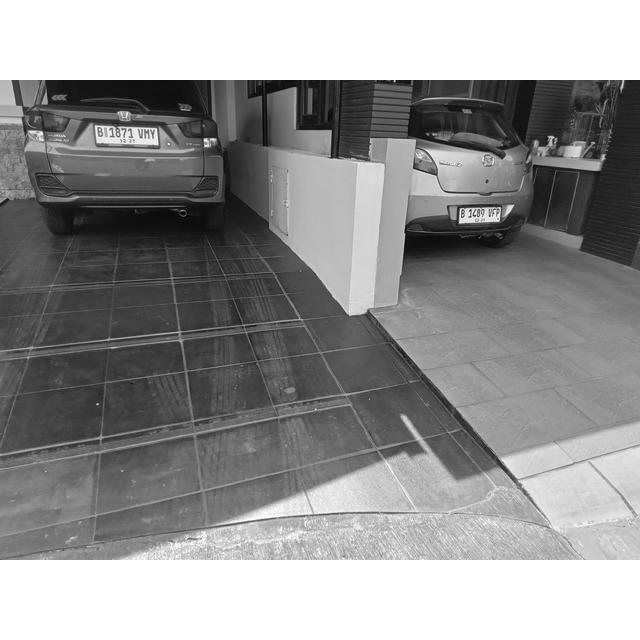license: (95, 126, 155, 144), (460, 207, 500, 220)
